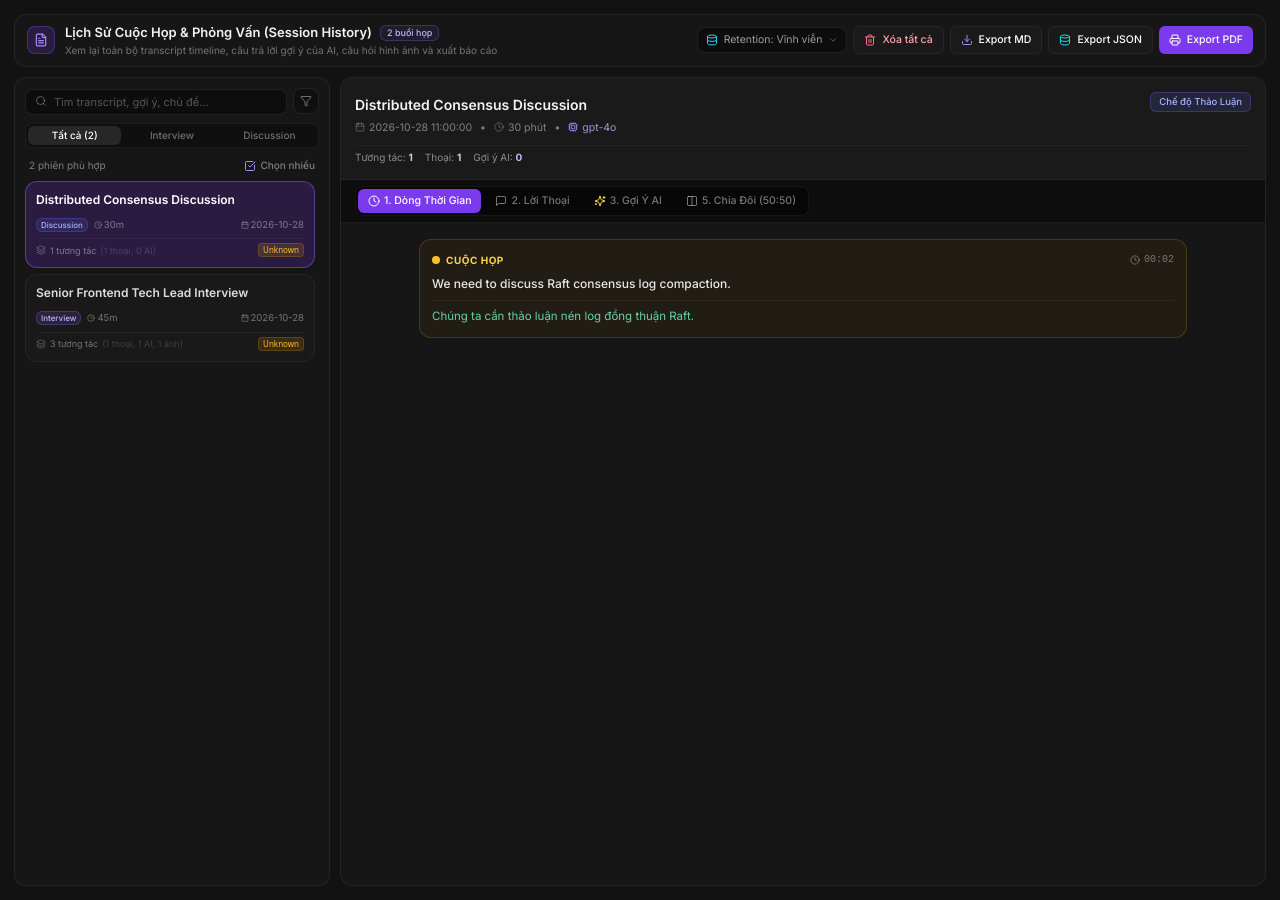
SessionHistory Screen Smoke Tests › filters sessions using mode filter pills
Click Discussion pill to filter only discussion sessions
What coordinates should you click on to do the following:
click the button "Discussion"
I would click on:
 (269, 136)
Its box is [223,126,316,145].
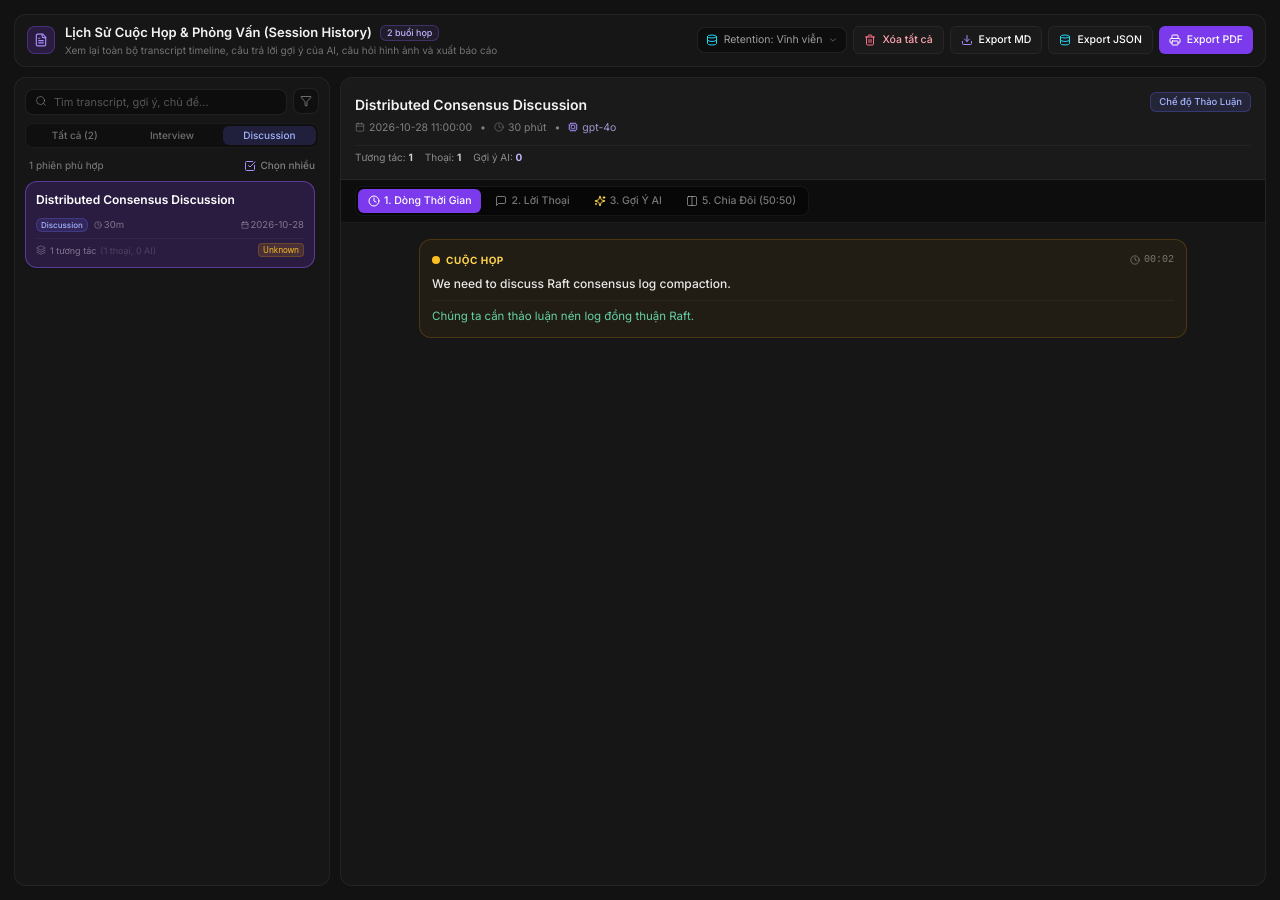
expect the button "Senior Frontend Tech Lead Interview" is gone: met
